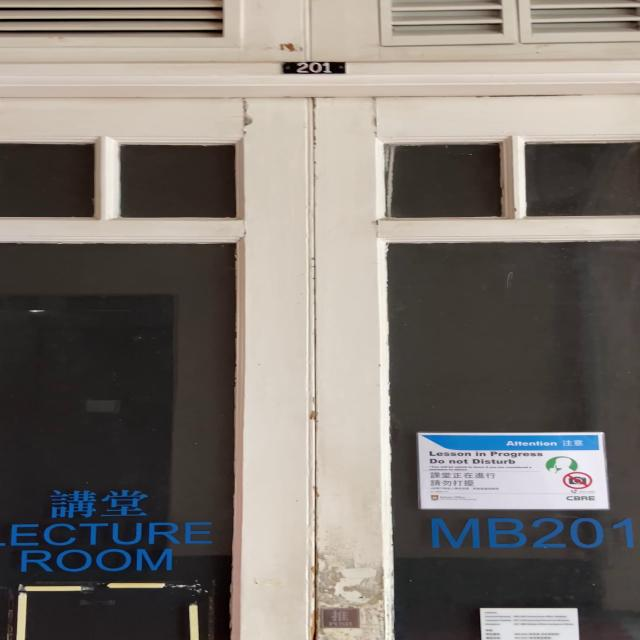room201: (276, 57, 351, 77)
room201Window: (425, 514, 640, 553)
